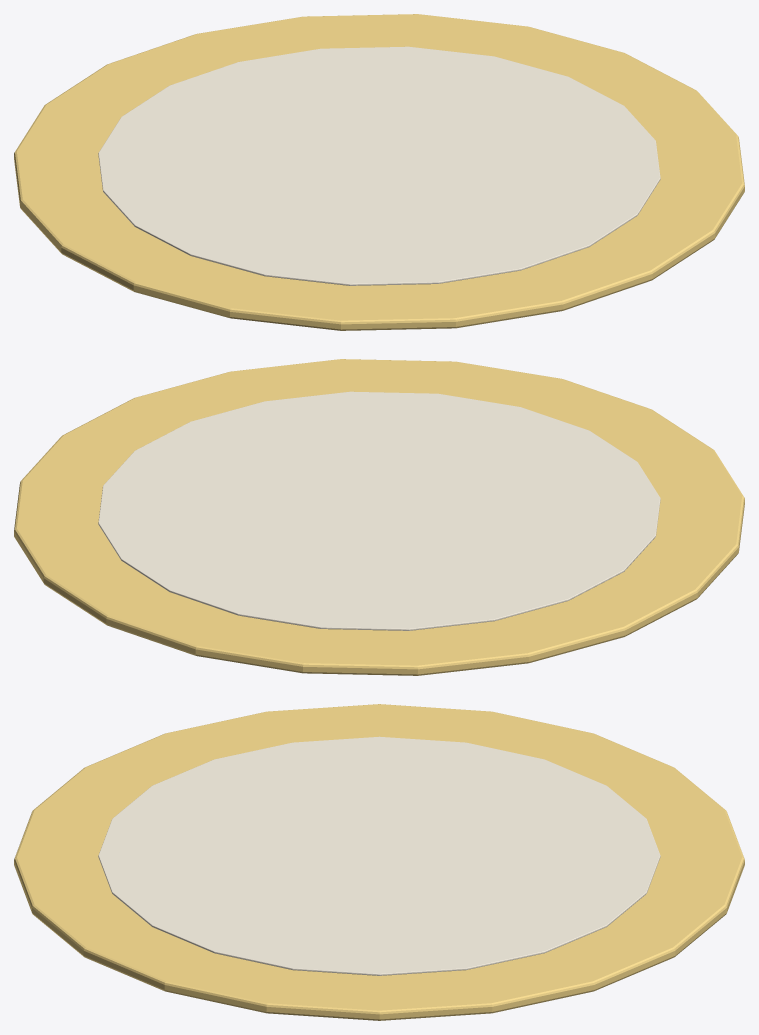
Rendered from cozy-home-interiors-bedroom-rug-be81acde.glb.
The picture shows the model from 3 angles, top to bottom: view 1: azimuth 30°, elevation 25°; view 2: azimuth 150°, elevation 25°; view 3: azimuth 270°, elevation 25°; orthographic projection.
Visible parts, largest first — view 1: bedroom-rug; view 2: bedroom-rug; view 3: bedroom-rug.
Part boxes in pixels (x1,y1,x2,y2): bedroom-rug: (14, 14, 744, 330); bedroom-rug: (14, 359, 744, 675); bedroom-rug: (14, 704, 744, 1020).
Bounding box in the file's own units: 1.3 × 0.024 × 1.3.
